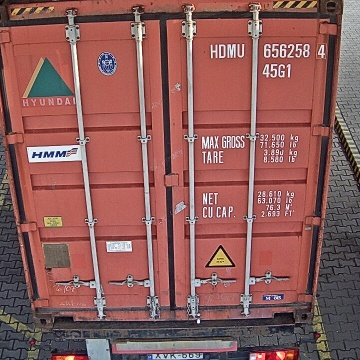serial_id: (210, 43, 326, 58)
